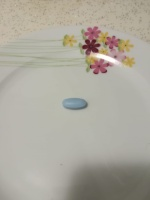Apranax: (61, 97, 89, 111)
